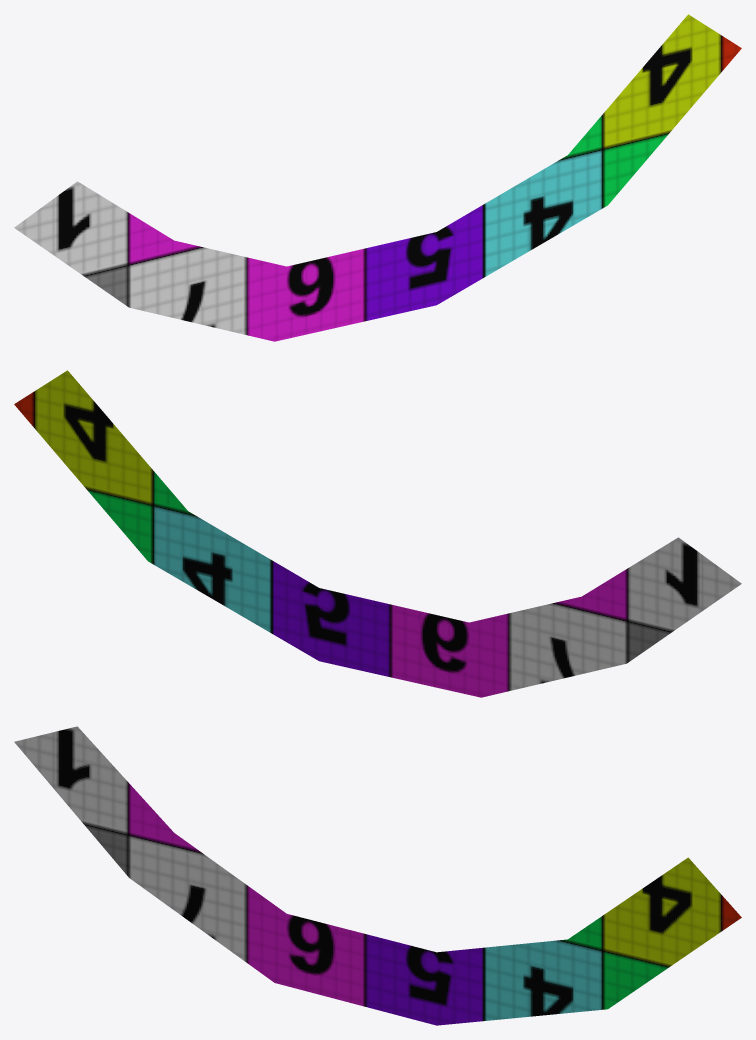
Rendered from Vines04.fbx.
3 views of the same model, one above another, from view 1: azimuth 30°, elevation 25°; view 2: azimuth 150°, elevation 25°; view 3: azimuth 330°, elevation 25° (orthographic).
Visible parts, largest first — view 1: vines04; view 2: vines04; view 3: vines04.
Part boxes in pixels (x1=…): vines04: x1=14, y1=14, x2=741, y2=341; vines04: x1=14, y1=370, x2=741, y2=697; vines04: x1=14, y1=726, x2=741, y2=1025.
Size of the model in its own units: 44.14 by 13.3 by 1.7e-06.
1 material, 1 textured.
